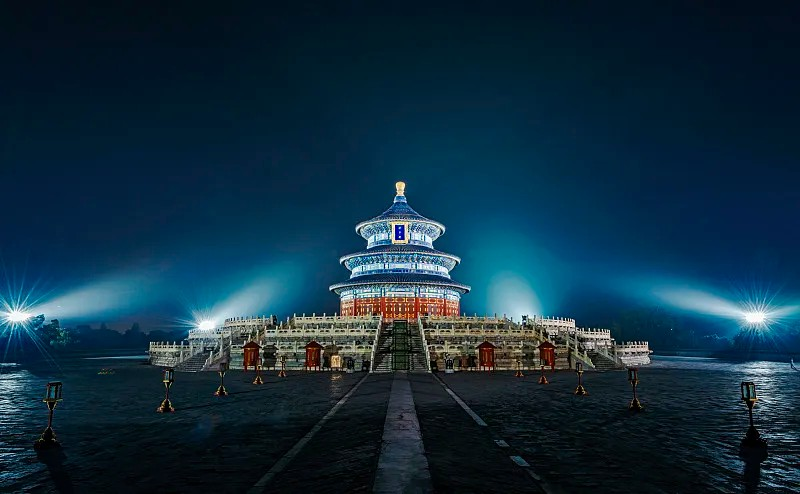Heaven: (327, 181, 472, 319)
